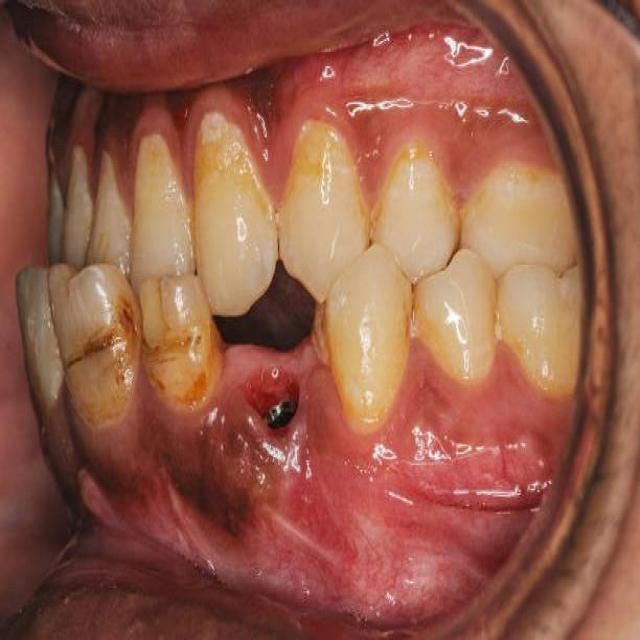caries: (48, 262, 136, 433), (143, 274, 220, 408)
